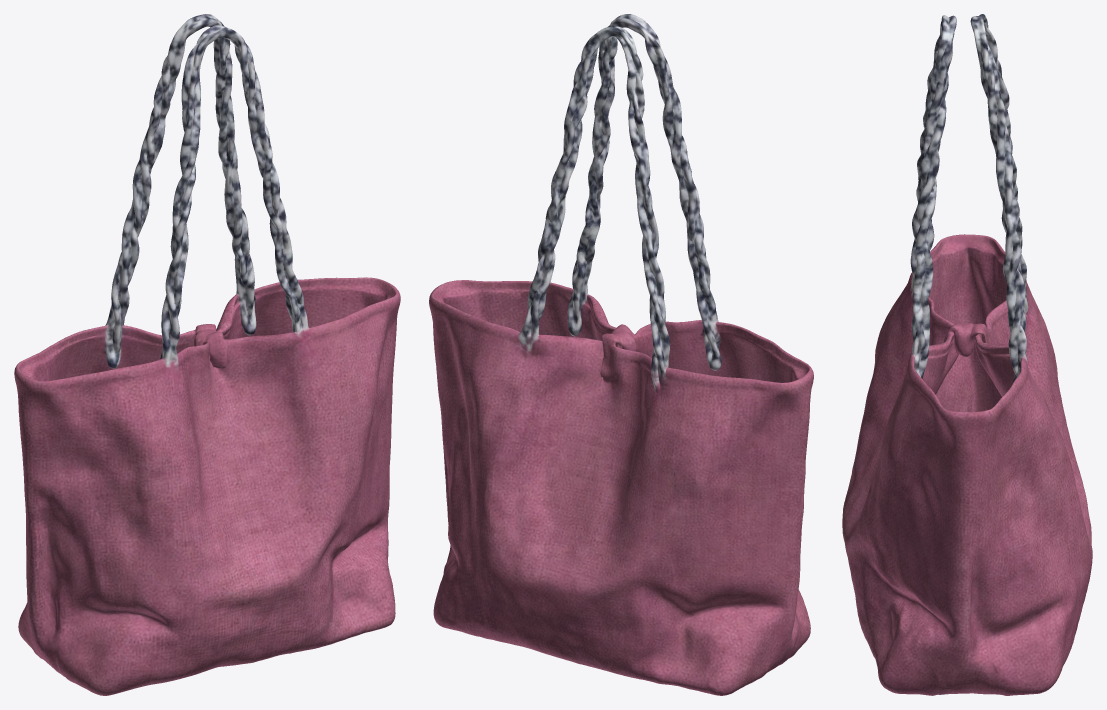
Rendered from tuixach-hong.glb.
3 renders of one model, left to right at view 1: azimuth 30°, elevation 25°; view 2: azimuth 150°, elevation 25°; view 3: azimuth 270°, elevation 25°, orthographic.
Parts seen in each view (by area): view 1: geometry_0; view 2: geometry_0; view 3: geometry_0.
Part boxes in pixels (bbox=[...]): geometry_0: bbox=[14, 14, 400, 695]; geometry_0: bbox=[429, 14, 813, 695]; geometry_0: bbox=[842, 14, 1092, 695].
Size of the model in its own units: 0.6359 by 1 by 0.3713.
Materials: 1 (1 with a texture image).
